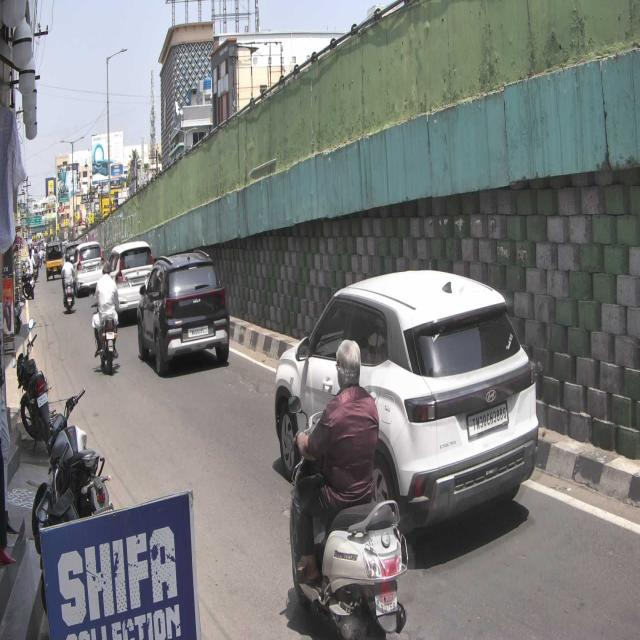single_rider: (288, 338, 410, 640)
